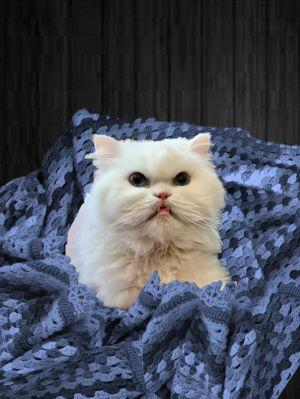persian: (81, 130, 238, 255)
